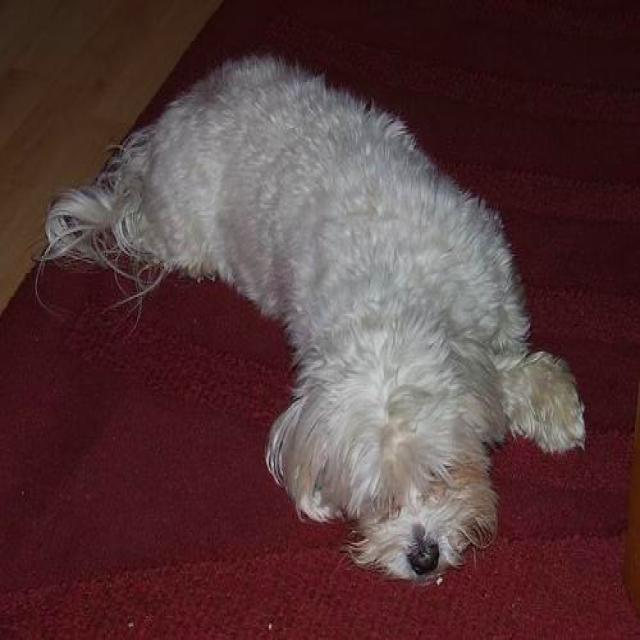maltese_dog: (31, 48, 585, 588)
